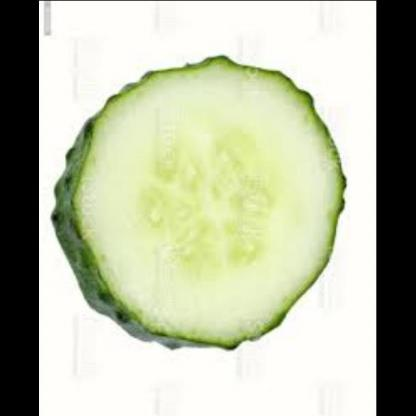cucumber: (52, 51, 359, 362)
